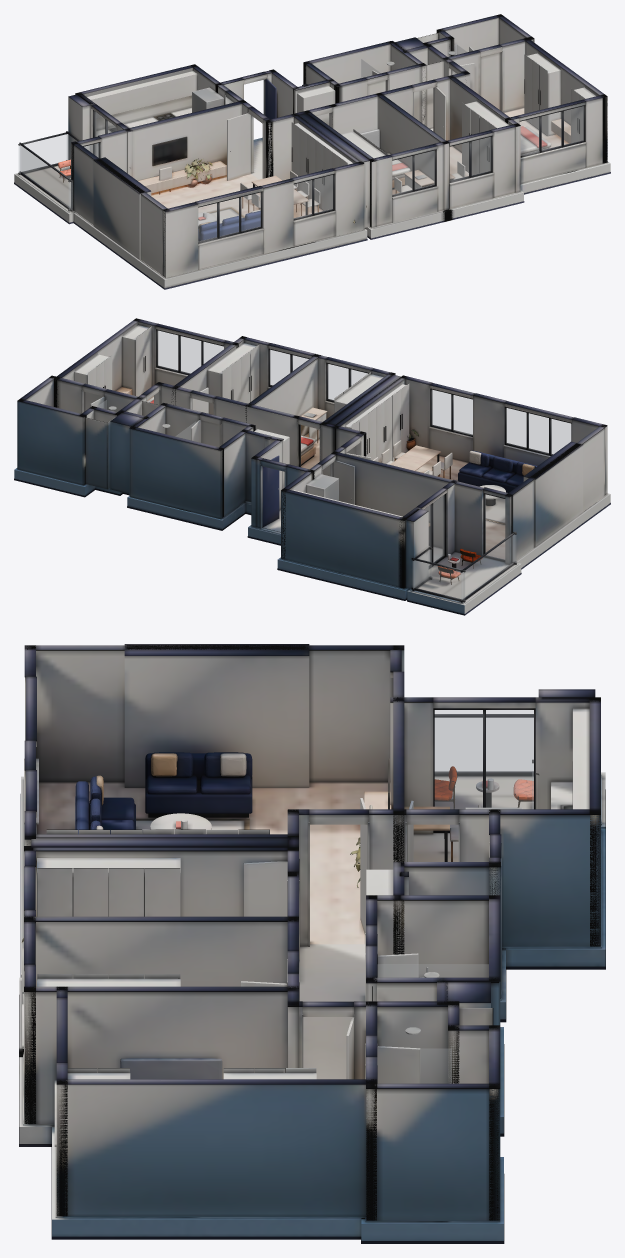
The picture shows the model from 3 angles, top to bottom: view 1: azimuth 30°, elevation 25°; view 2: azimuth 150°, elevation 25°; view 3: azimuth 270°, elevation 25°; orthographic projection. The views are drawn at different scales.
Parts seen in each view (by area): view 1: plan, glass2_m, glass6_m, railg4_m, glass4_m, glass5_m, glass3_m, railg0_m; view 2: plan, glass2_m, glass6_m, railg4_m, railg0_m, glass3_m, glass1_m, glass0_m, glass4_m, glass5_m, railg5_m; view 3: plan, glass0_m, railg4_m, sg_m, sg.001_m.
Part boxes in pixels (<box>): plan: <box>14,14,610,289</box>; glass2_m: <box>198,192,260,241</box>; glass6_m: <box>520,106,583,155</box>; railg4_m: <box>20,146,72,209</box>; glass4_m: <box>392,150,434,194</box>; glass5_m: <box>450,137,491,180</box>; glass3_m: <box>294,175,333,218</box>; railg0_m: <box>19,134,67,172</box>; plan: <box>14,318,610,615</box>; glass2_m: <box>506,408,570,454</box>; glass6_m: <box>157,331,223,373</box>; railg4_m: <box>461,535,514,599</box>; railg0_m: <box>412,560,464,599</box>; glass3_m: <box>431,390,472,434</box>; glass1_m: <box>485,494,504,559</box>; glass0_m: <box>425,495,444,562</box>; glass4_m: <box>328,364,367,400</box>; glass5_m: <box>270,350,308,385</box>; railg5_m: <box>413,550,430,588</box>; plan: <box>19,644,605,1243</box>; glass0_m: <box>435,710,533,827</box>; railg4_m: <box>435,718,533,771</box>; sg_m: <box>377,964,488,977</box>; sg.001_m: <box>420,1049,451,1083</box>.
Bounding box in the file's own units: 16.54 × 2.62 × 9.08.
2 materials, 1 textured.
